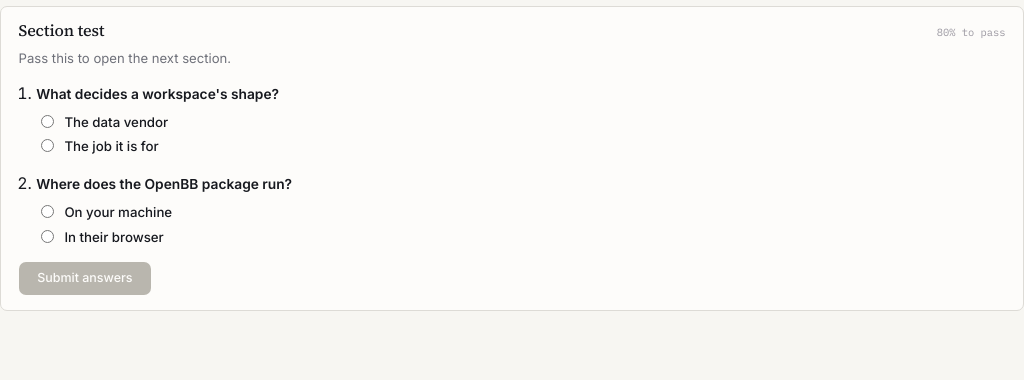
Test: SectionTestCard (GRS-0226) › believes the server over the answer key it was handed
The image size is (1024, 380).
Click the radio button labelled "The job it is for": point(48, 146) [41,139,54,152]
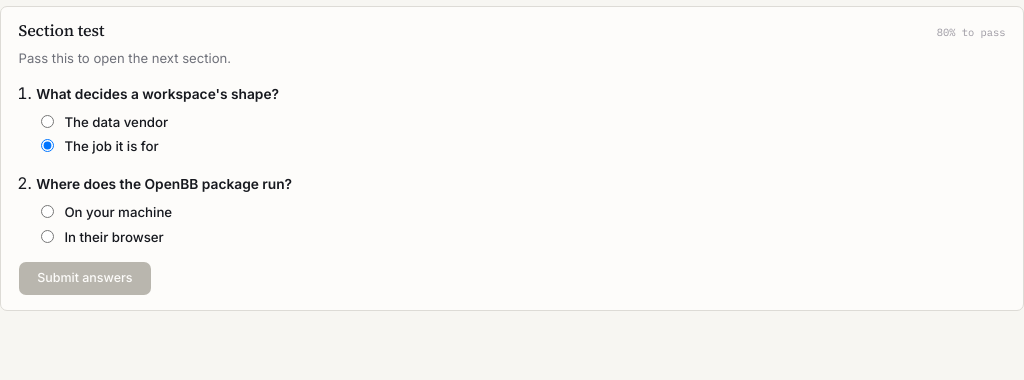
Click the radio button labelled "On your machine": point(48, 212) [41,205,54,218]
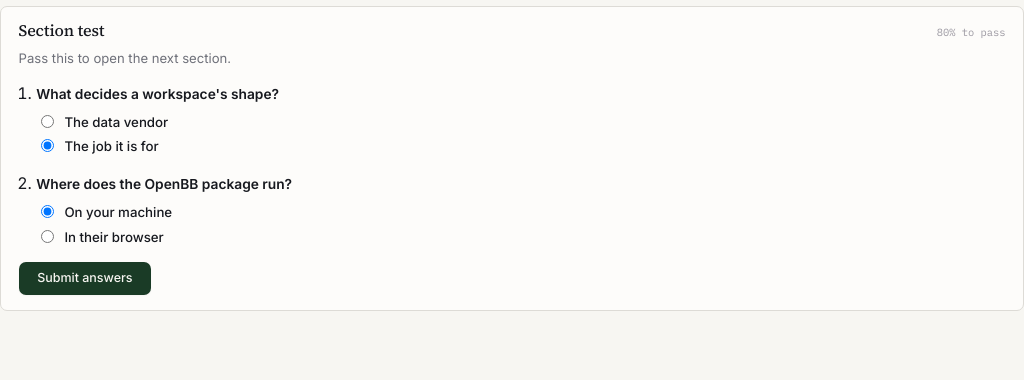
Click the button "Submit answers": point(85, 278) [19,262,151,295]
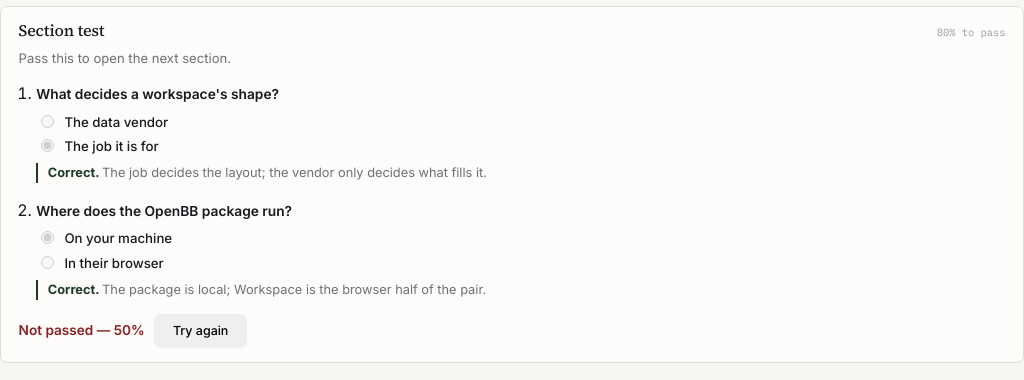
Check: the text "Not passed — 50%" is shown, box [19,320,145,341]
